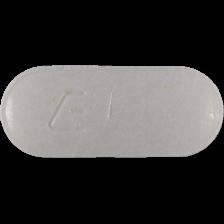67544-322: (0, 0, 224, 224)
